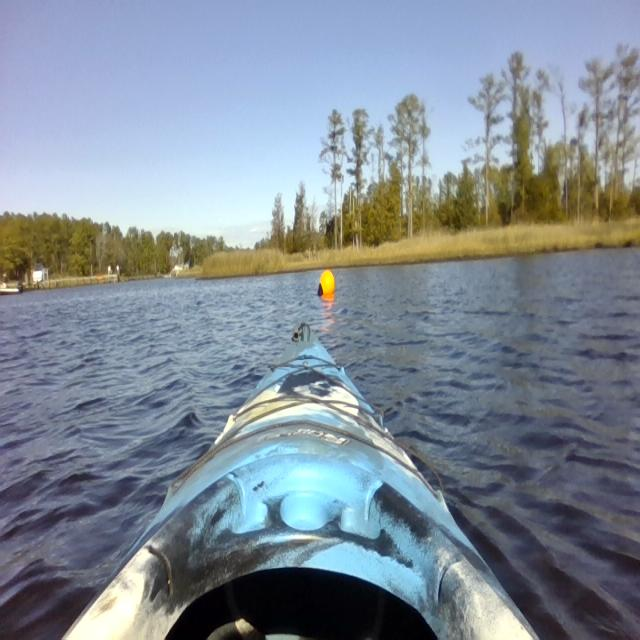Buoy: (315, 266, 338, 301)
